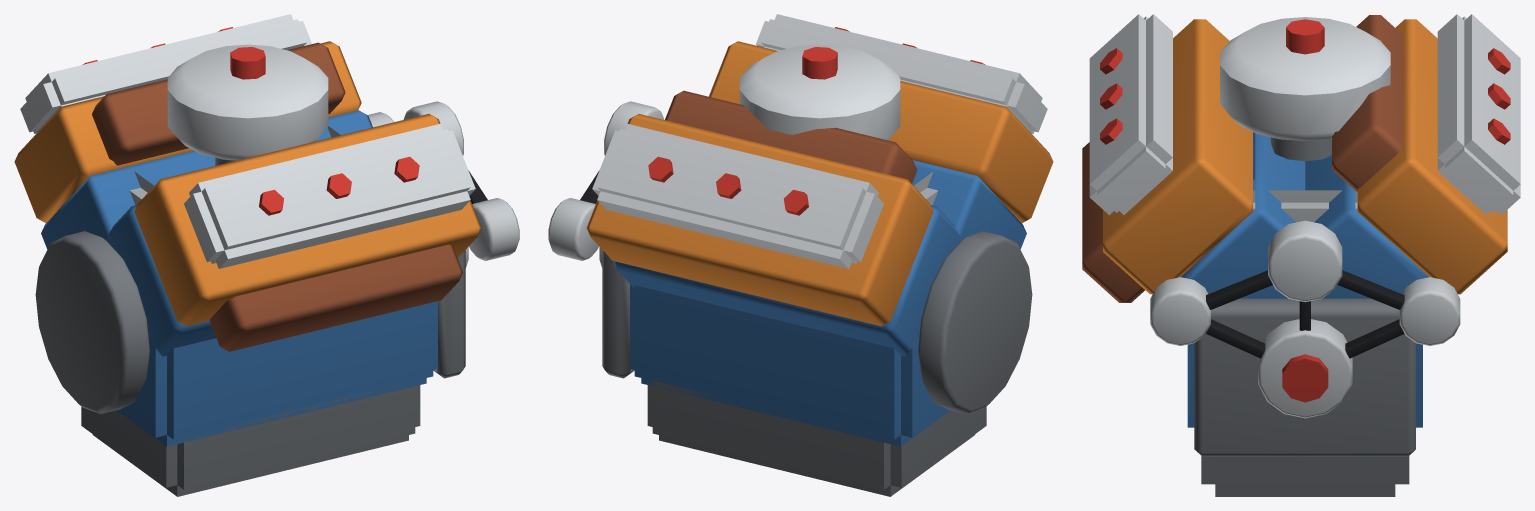
The model's file is SM_EngineBlock_V8_01.glb.
3 views of the same model, side by side, from view 1: azimuth 30°, elevation 25°; view 2: azimuth 150°, elevation 25°; view 3: azimuth 270°, elevation 25° (orthographic). The views are drawn at different scales.
Visible parts, largest first — view 1: SM_EngineBlock_V8_01; view 2: SM_EngineBlock_V8_01; view 3: SM_EngineBlock_V8_01.
Boxes of the visible parts, bbox=[...] form: SM_EngineBlock_V8_01: bbox=[14, 14, 519, 496]; SM_EngineBlock_V8_01: bbox=[548, 14, 1053, 496]; SM_EngineBlock_V8_01: bbox=[1082, 14, 1520, 496].
Bounding box in the file's own units: 0.67 × 0.65 × 0.6332.
1 material, 1 textured.
